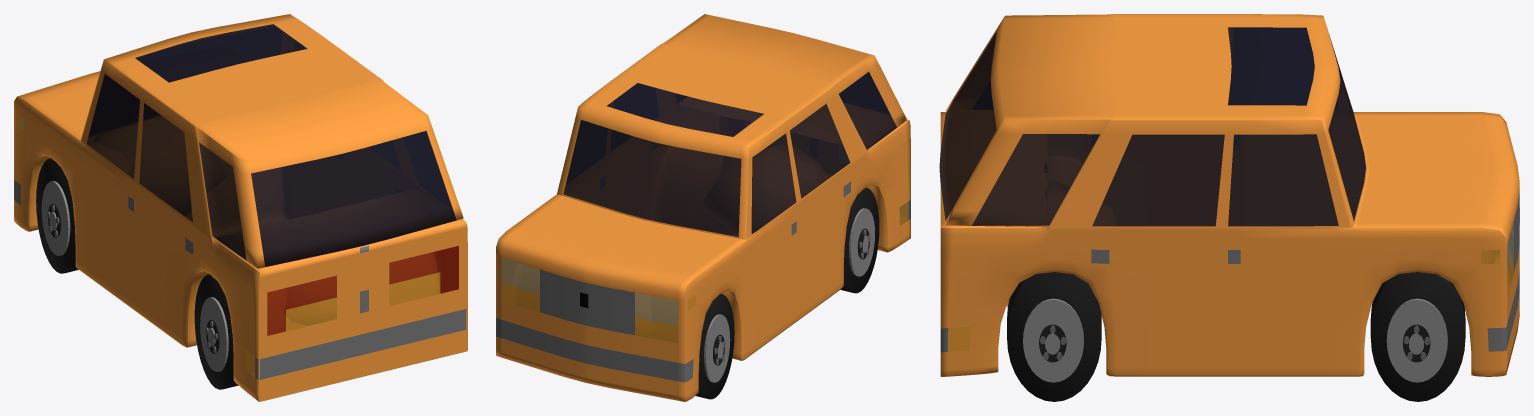
The model's file is car3wagoncm.fbx.
The picture shows the model from 3 angles, left to right: view 1: azimuth 30°, elevation 25°; view 2: azimuth 150°, elevation 25°; view 3: azimuth 270°, elevation 25°; orthographic projection. The views are drawn at different scales.
Visible parts, largest first — view 1: Car2, LugNut.004, LugNut.003; view 2: Car2, LugNut.004, LugNut.003; view 3: Car2, LugNut.001, LugNut.002.
Boxes of the visible parts, <box> form: Car2: <box>14,14,467,401</box>; LugNut.004: <box>36,158,78,273</box>; LugNut.003: <box>194,274,238,389</box>; Car2: <box>496,14,910,401</box>; LugNut.004: <box>695,294,734,399</box>; LugNut.003: <box>840,188,879,293</box>; Car2: <box>939,14,1519,376</box>; LugNut.001: <box>1370,272,1465,401</box>; LugNut.002: <box>1007,272,1101,401</box>.
Bounding box in the file's own units: 186 × 204 × 385.
